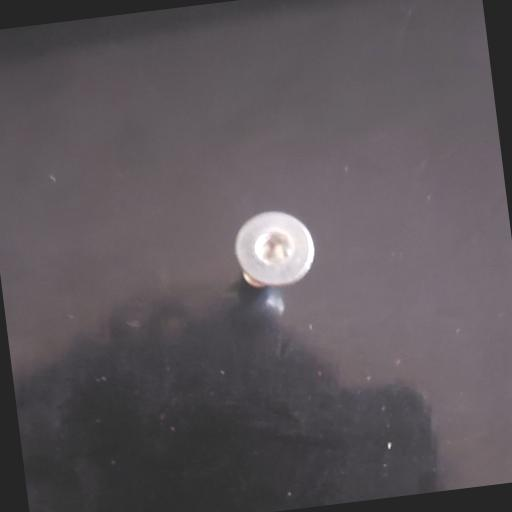Hex-Allen: (230, 202, 320, 289)
